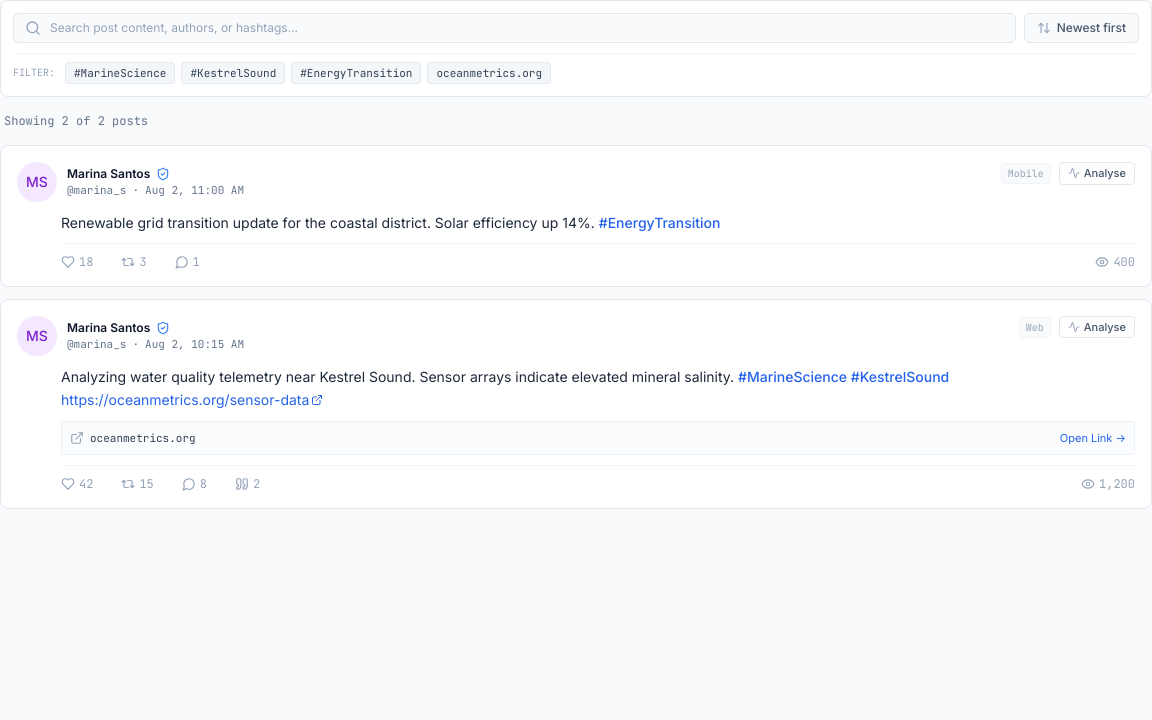
Test case: Feed and Post Components › filters posts by search text in PostList
This screenshot has width=1152, height=720.
Check: the text "Analyzing water quality telemetry" is shown, box [61, 368, 949, 408]
Check: the text "Renewable grid transition" is shown, box [61, 214, 720, 231]
Type "salinity" into the field with placeholder "Search post content, authors, or hashtags..." at coordinates (514, 28), box [13, 13, 1016, 43]
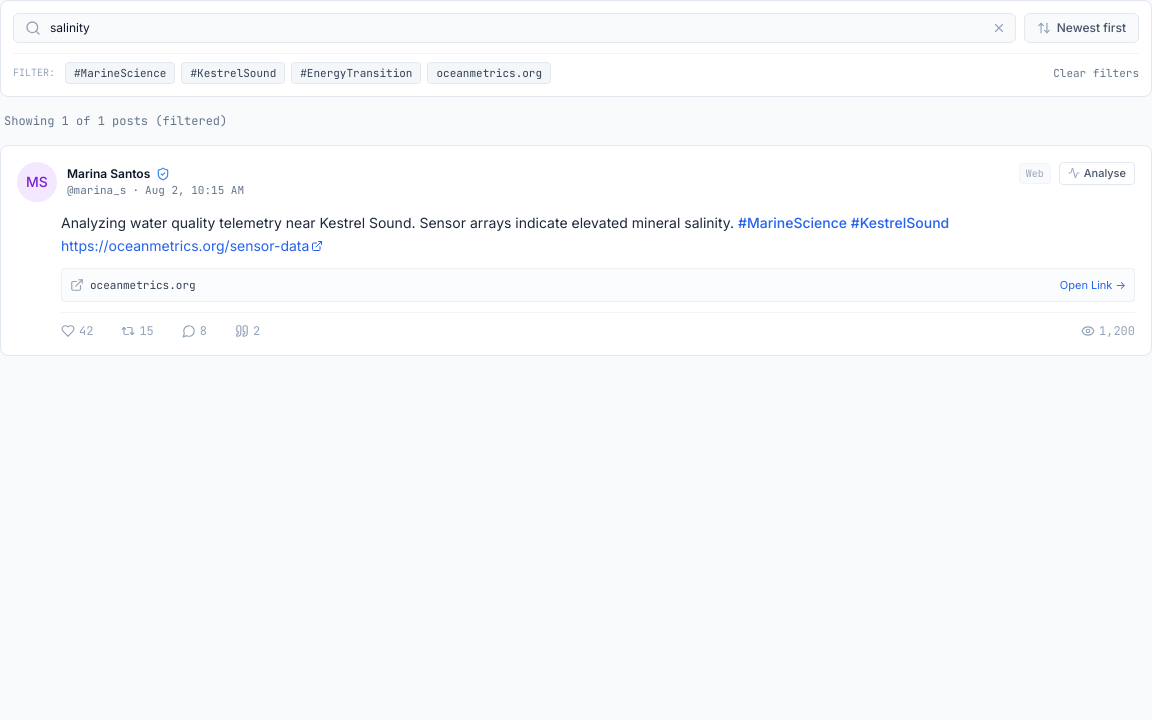
Check: the text "Analyzing water quality telemetry" is shown, box [61, 214, 949, 254]
Check: the text "Renewable grid transition" is gone
